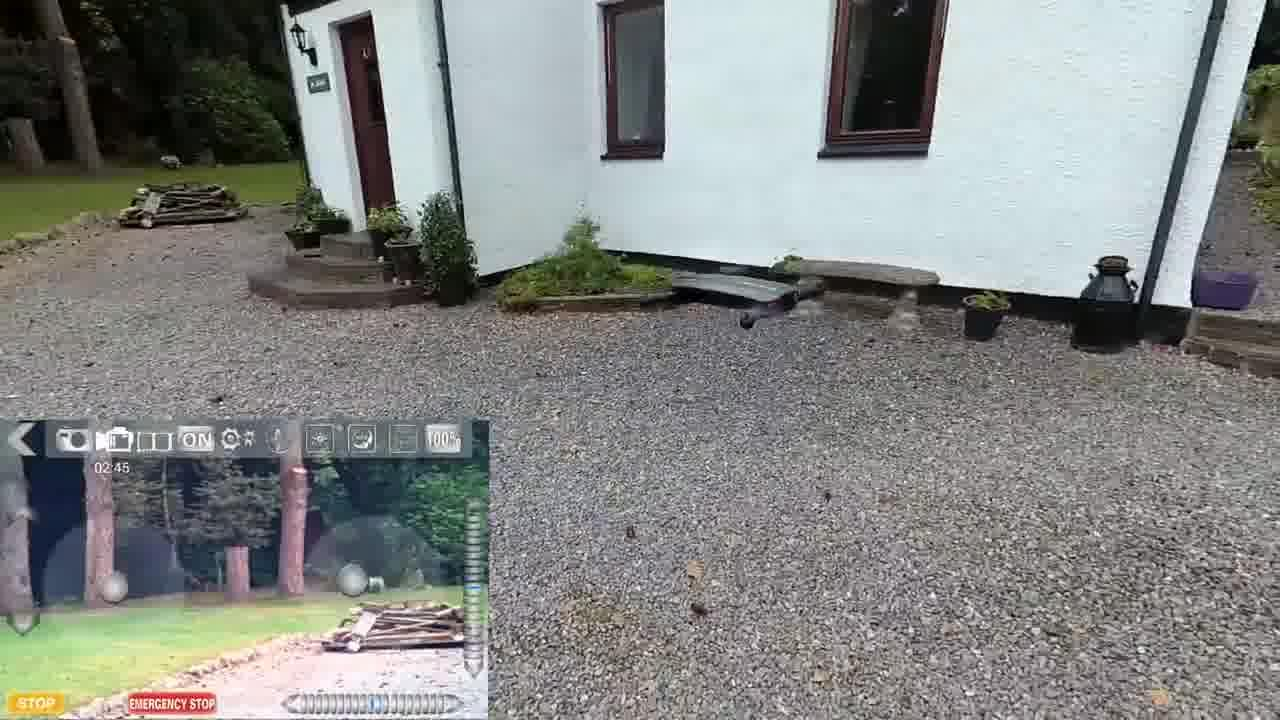drone: (654, 258, 826, 336)
